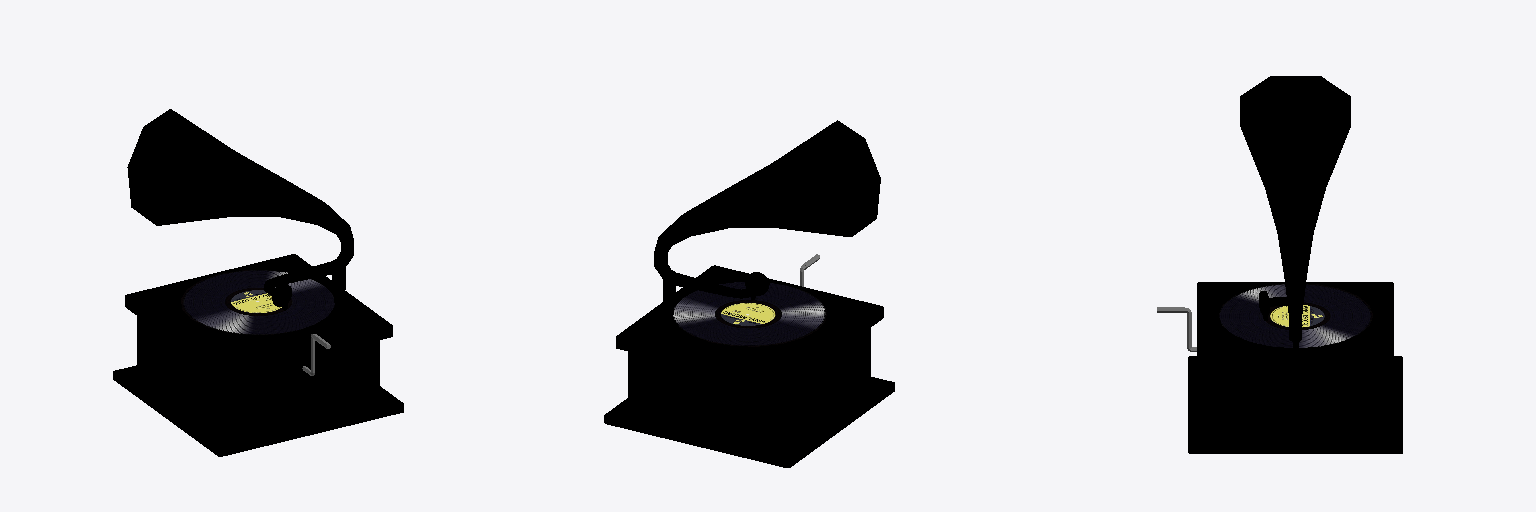
The picture shows the model from 3 angles: view 1: azimuth 30°, elevation 25°; view 2: azimuth 150°, elevation 25°; view 3: azimuth 270°, elevation 25°; orthographic projection.
Parts seen in each view (by area): view 1: Vinyl_01:cube53, Vinyl_01:polymsh_extracted21, pCylinder1, Vinyl_01:cylinder7; view 2: Vinyl_01:cube53, Vinyl_01:polymsh_extracted21, pCylinder1, Vinyl_01:cylinder7; view 3: Vinyl_01:cube53, Vinyl_01:polymsh_extracted21, pCylinder1, Vinyl_01:cylinder7.
Part boxes in pixels (bbox=[...]): Vinyl_01:cube53: bbox=[113, 254, 403, 456]; Vinyl_01:polymsh_extracted21: bbox=[127, 109, 353, 295]; pCylinder1: bbox=[181, 270, 334, 335]; Vinyl_01:cylinder7: bbox=[175, 268, 344, 344]; Vinyl_01:cube53: bbox=[604, 265, 894, 467]; Vinyl_01:polymsh_extracted21: bbox=[654, 120, 880, 303]; pCylinder1: bbox=[673, 282, 826, 347]; Vinyl_01:cylinder7: bbox=[664, 279, 833, 355]; Vinyl_01:cube53: bbox=[1188, 282, 1402, 453]; Vinyl_01:polymsh_extracted21: bbox=[1240, 76, 1350, 364]; pCylinder1: bbox=[1218, 284, 1372, 348]; Vinyl_01:cylinder7: bbox=[1210, 283, 1380, 358].
Size of the model in its own units: 1.17 by 1.58 by 1.19.
Materials: 8 (3 with a texture image).